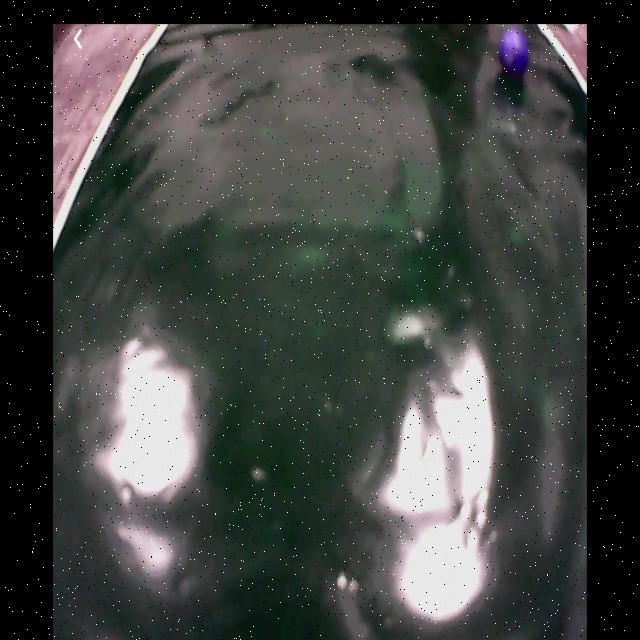ball: (499, 30, 529, 72)
